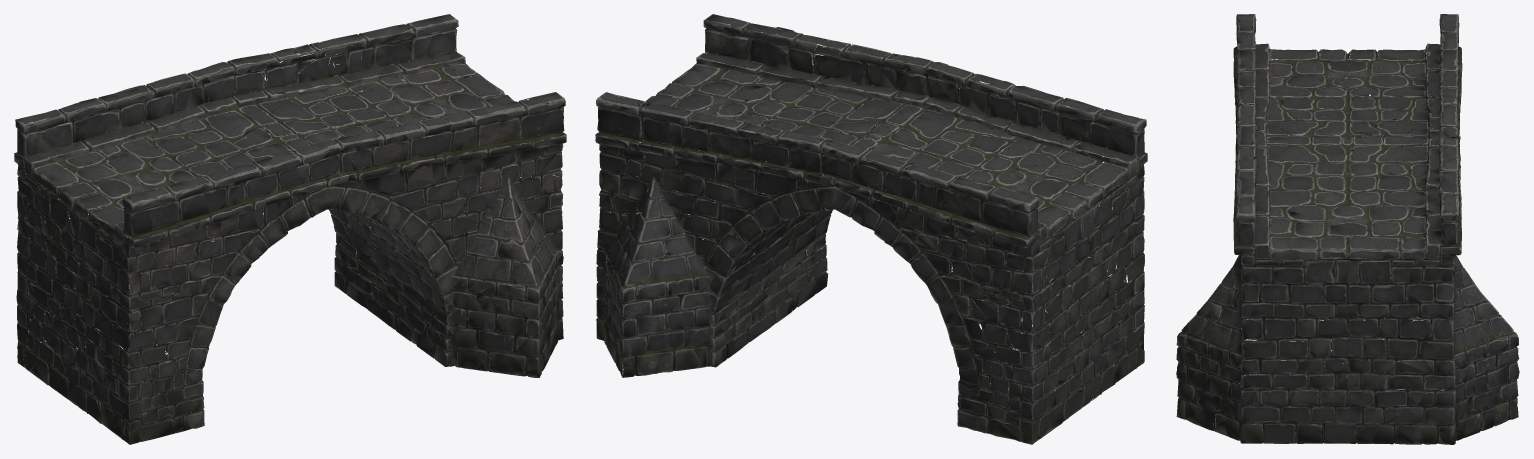
File: M12_BridgeArch.fbx
3 renders of one model, left to right at view 1: azimuth 30°, elevation 25°; view 2: azimuth 150°, elevation 25°; view 3: azimuth 270°, elevation 25°, orthographic. The views are drawn at different scales.
Parts seen in each view (by area): view 1: M12_BridgeArch.003; view 2: M12_BridgeArch.003; view 3: M12_BridgeArch.003.
Boxes of the visible parts, left/top/right/bottom form: M12_BridgeArch.003: left=14, top=14, right=566, bottom=444; M12_BridgeArch.003: left=595, top=14, right=1147, bottom=444; M12_BridgeArch.003: left=1176, top=14, right=1519, bottom=444.
Size of the model in its own units: 18.29 by 10 by 13.06.
Materials: 1 (1 with a texture image).
